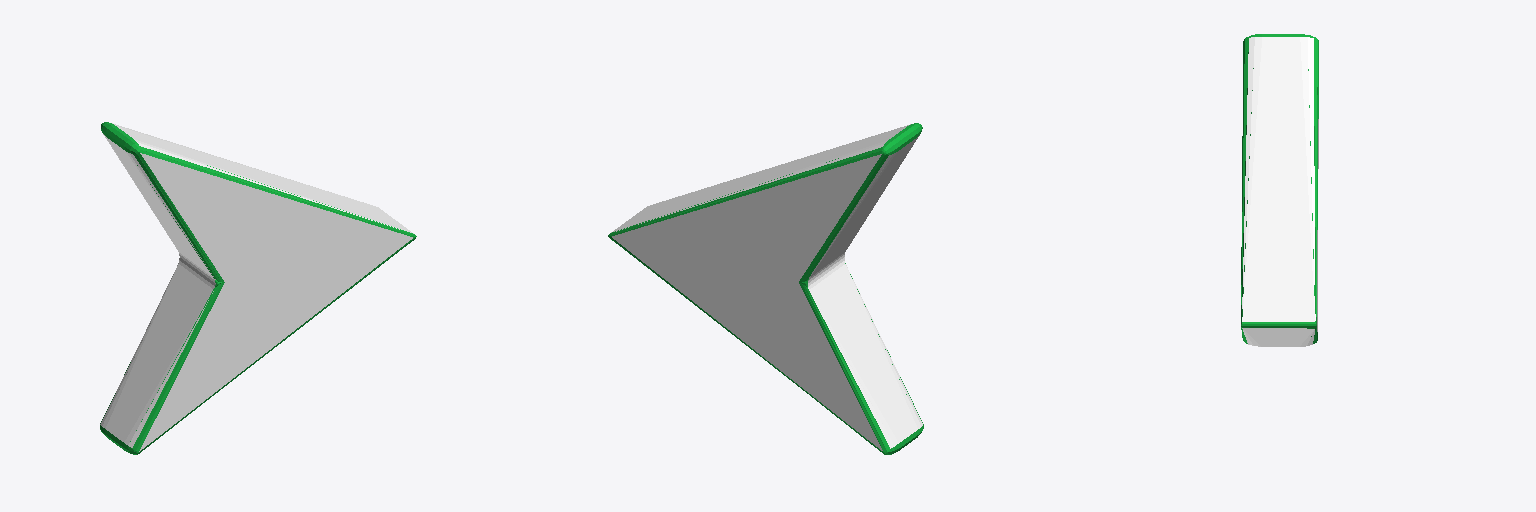
Rendered from arrowC.obj.
The picture shows the model from 3 angles: view 1: azimuth 30°, elevation 25°; view 2: azimuth 150°, elevation 25°; view 3: azimuth 270°, elevation 25°; orthographic projection.
Parts seen in each view (by area): view 1: Object.1; view 2: Object.1; view 3: Object.1.
Boxes of the visible parts, x1=… form: Object.1: x1=100, y1=122, x2=416, y2=454; Object.1: x1=608, y1=123, x2=923, y2=454; Object.1: x1=1241, y1=34, x2=1318, y2=346.
Bounding box in the file's own units: 1.32 × 1.38 × 0.3145.